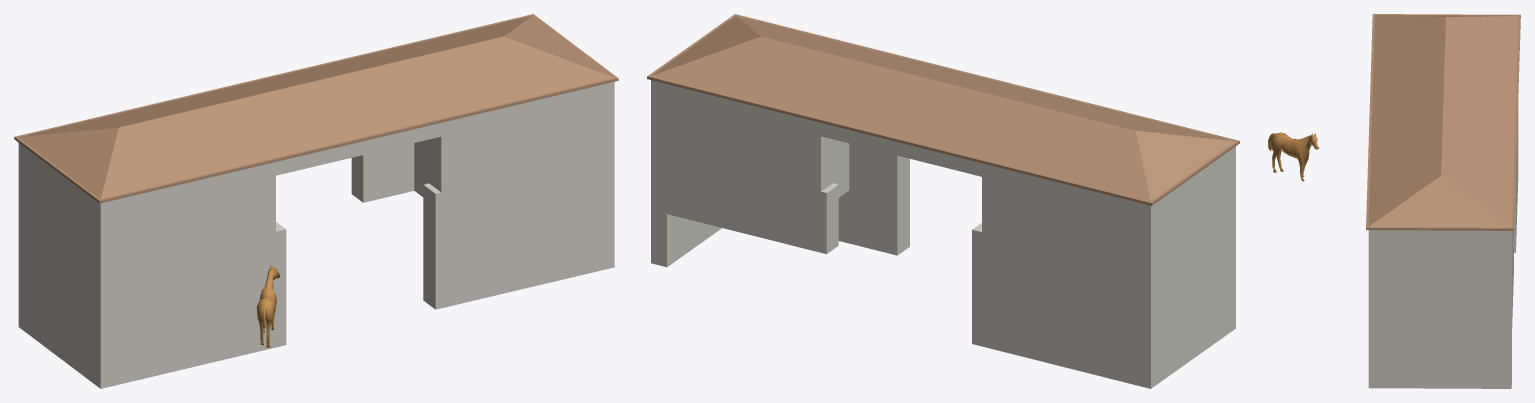
File: Entrance_Building_B.fbx
The picture shows the model from 3 angles, left to right: view 1: azimuth 30°, elevation 25°; view 2: azimuth 150°, elevation 25°; view 3: azimuth 270°, elevation 25°; orthographic projection. The views are drawn at different scales.
Visible parts, largest first — view 1: None__Stone_Brush_Non, None_Roofing_Tile, None_Material9; view 2: None__Stone_Brush_Non, None_Roofing_Tile; view 3: None_Roofing_Tile, None__Stone_Brush_Non, None_Material9.
Boxes of the visible parts, x1,y1,x2,y2 form: None__Stone_Brush_Non: [18, 82, 614, 388]; None_Roofing_Tile: [14, 14, 618, 203]; None_Material9: [256, 265, 279, 347]; None__Stone_Brush_Non: [651, 80, 1235, 388]; None_Roofing_Tile: [647, 14, 1239, 205]; None_Roofing_Tile: [1366, 14, 1520, 230]; None__Stone_Brush_Non: [1368, 104, 1518, 388]; None_Material9: [1268, 132, 1319, 181].
Size of the model in its own units: 265 by 106 by 132.
